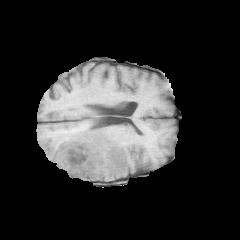glioma: (45, 127, 129, 181)
